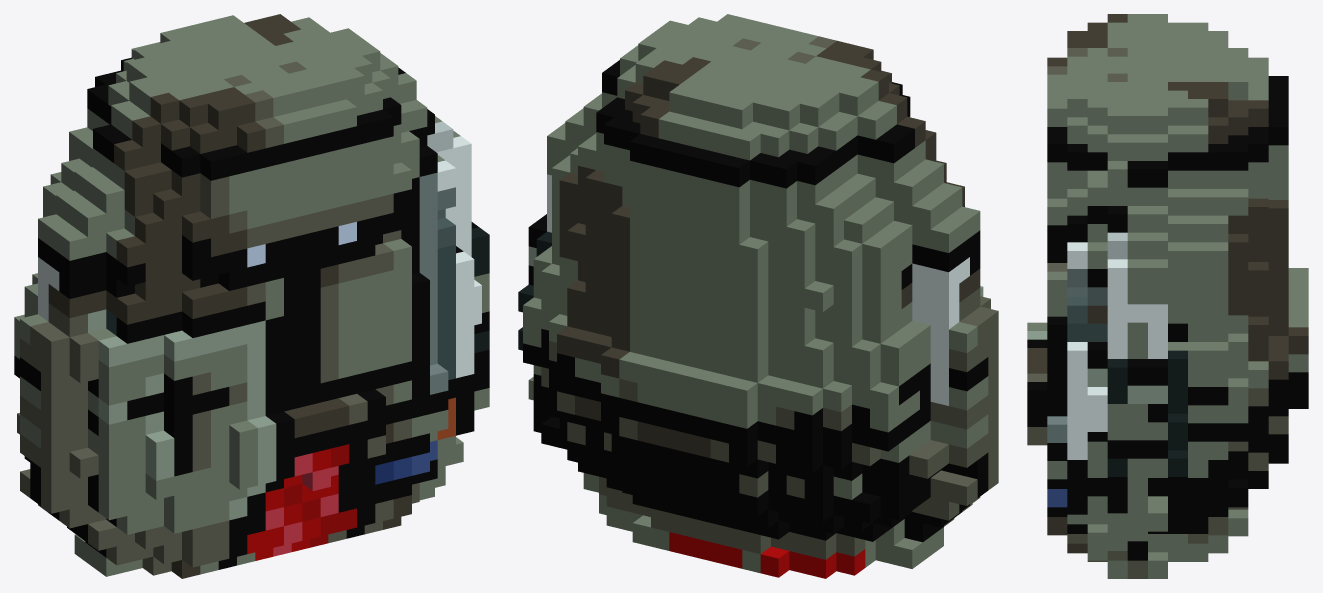
The model's file is Icon_736_01.obj.
3 views of the same model, side by side, from view 1: azimuth 30°, elevation 25°; view 2: azimuth 150°, elevation 25°; view 3: azimuth 270°, elevation 25° (orthographic). The views are drawn at different scales.
Size of the model in its own units: 2.4 by 2.4 by 1.4.
Materials: 1 (1 with a texture image).
